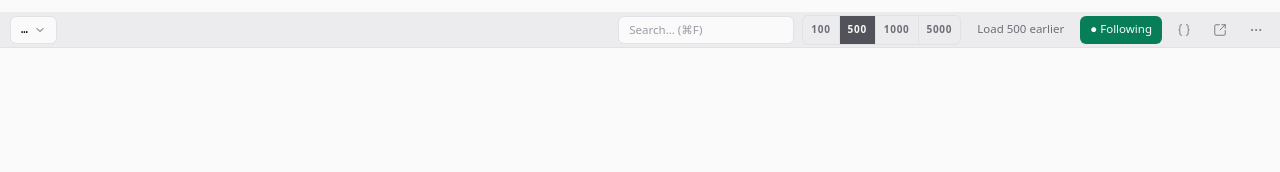
Test: LogToolbar search › shows 0 results for a query with no matches
Type "zzz" into the field with placeholder "Search… (⌘F)" at (706, 30), box [618,16,794,44]
Wait 160 ms
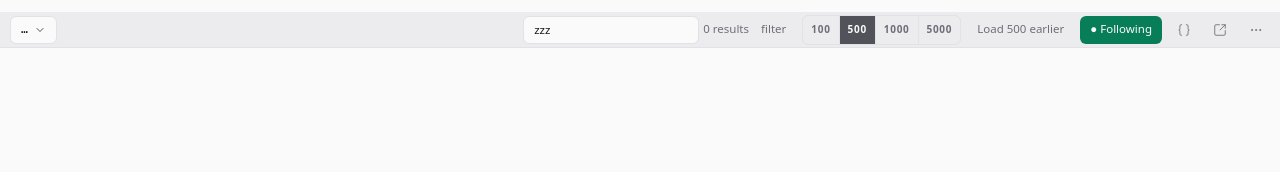
Check: the text "0 results" is shown, box [703,21,749,38]
